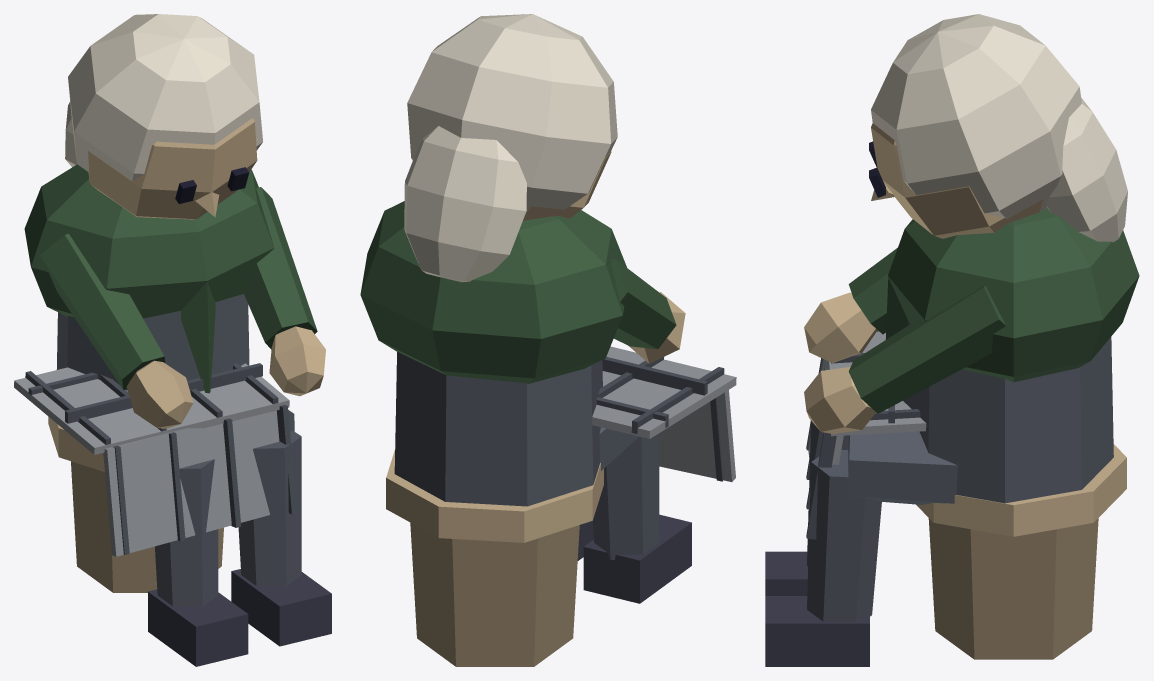
The model's file is hesk.glb.
3 renders of one model, left to right at view 1: azimuth 30°, elevation 25°; view 2: azimuth 150°, elevation 25°; view 3: azimuth 270°, elevation 25°, orthographic. The views are drawn at different scales.
Visible parts, largest first — view 1: LegL, Head, Torso, LegR, ArmR, ArmL, Stool; view 2: Torso, Head, Stool, LegL, LegR, ArmR; view 3: Torso, Head, Stool, LegL, ArmL, ArmR, LegR.
Part boxes in pixels (x1,y1,x2,y2): LegL: [14, 363, 331, 646]; Head: [65, 14, 262, 219]; Torso: [24, 164, 274, 393]; LegR: [148, 459, 248, 666]; ArmR: [40, 233, 193, 428]; ArmL: [243, 187, 325, 396]; Stool: [48, 417, 223, 592]; Torso: [360, 201, 626, 506]; Head: [404, 14, 617, 282]; Stool: [386, 449, 603, 666]; LegL: [577, 346, 736, 560]; LegR: [583, 427, 691, 603]; ArmR: [610, 258, 685, 363]; Torso: [885, 208, 1139, 503]; Head: [869, 14, 1127, 242]; Stool: [916, 444, 1126, 659]; LegL: [765, 330, 957, 666]; ArmL: [804, 285, 1005, 433]; ArmR: [804, 247, 897, 362]; LegR: [765, 421, 848, 595].
Bounding box in the file's own units: 0.74 × 1.53 × 0.859.
